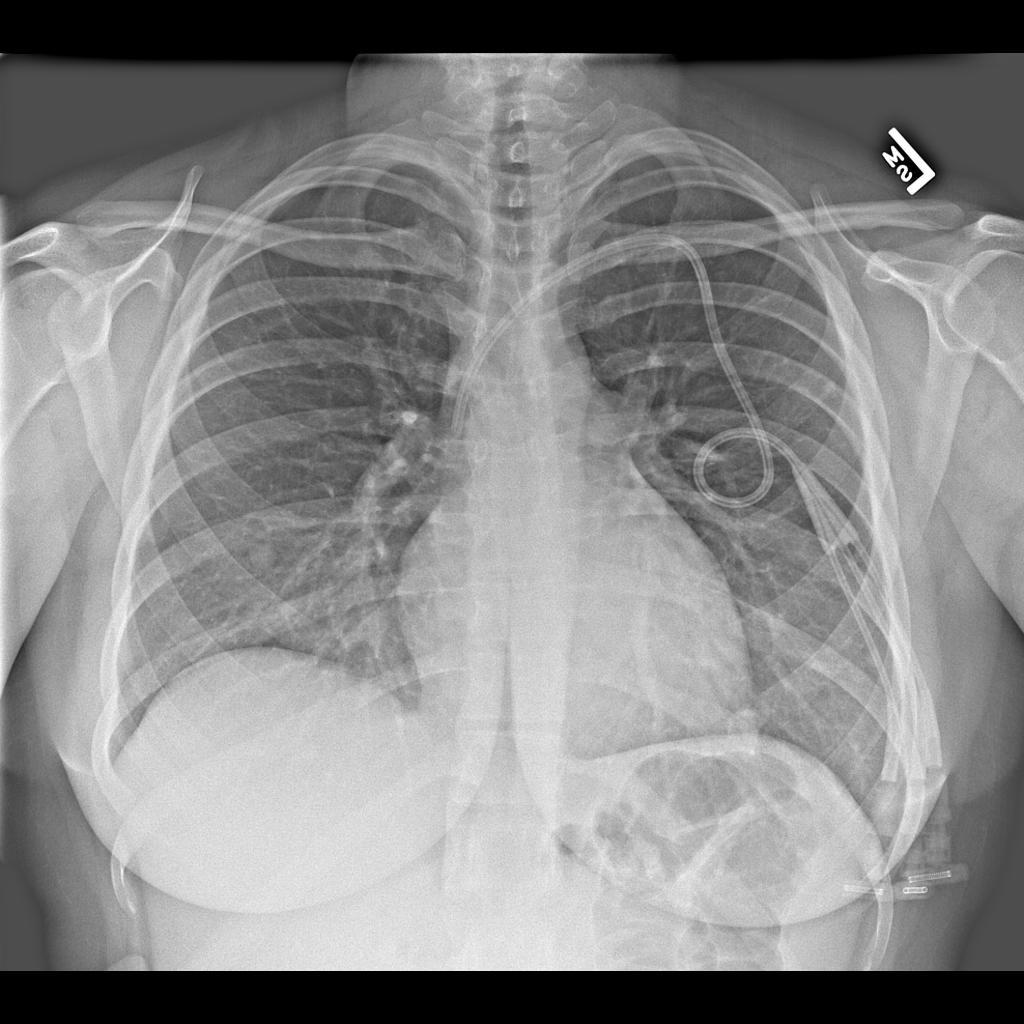Nodule: (242, 539, 280, 574)
